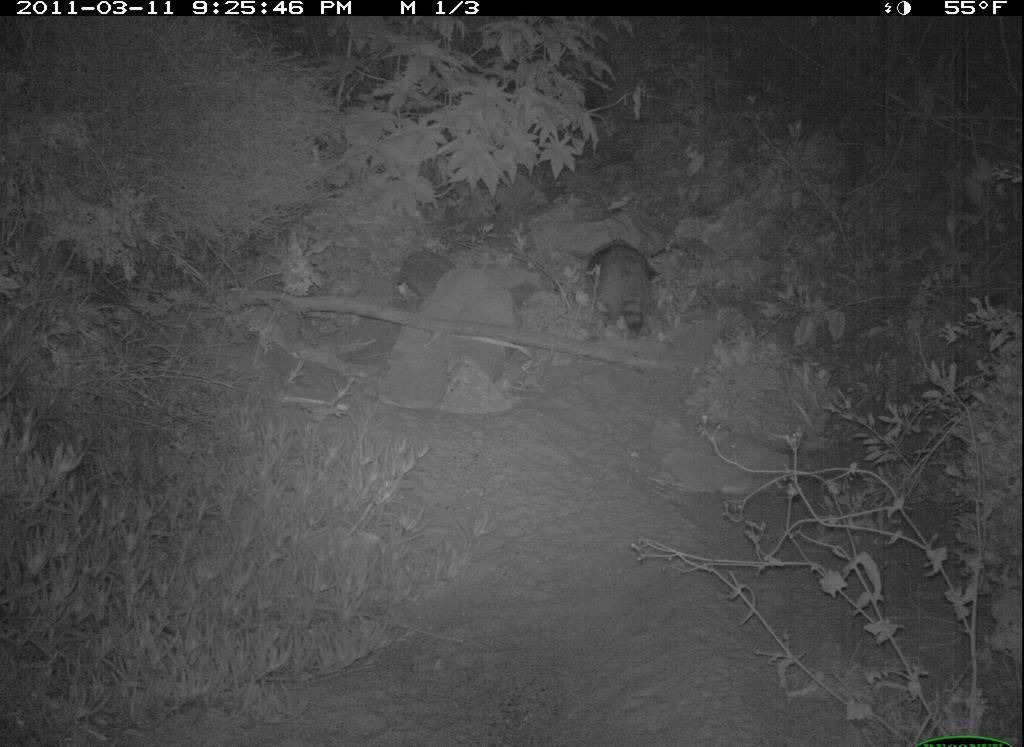raccoon: (584, 236, 673, 347)
